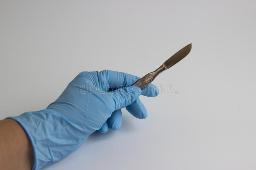scalpel: (132, 42, 194, 90)
